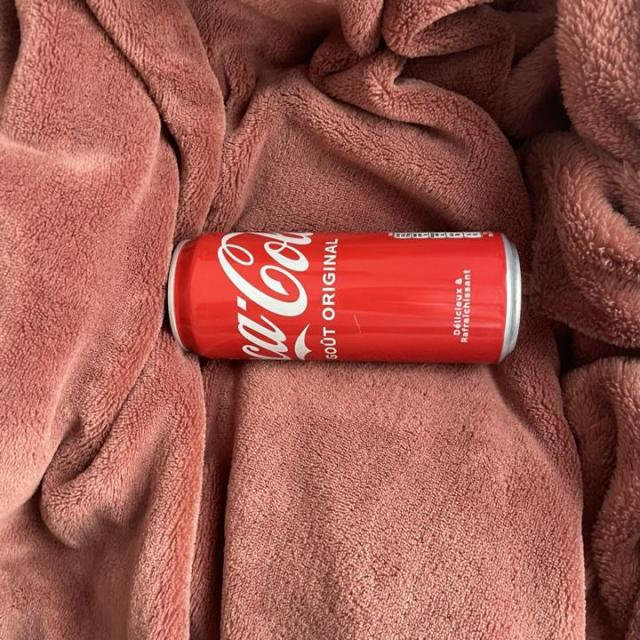recyclable: (152, 228, 530, 370)
